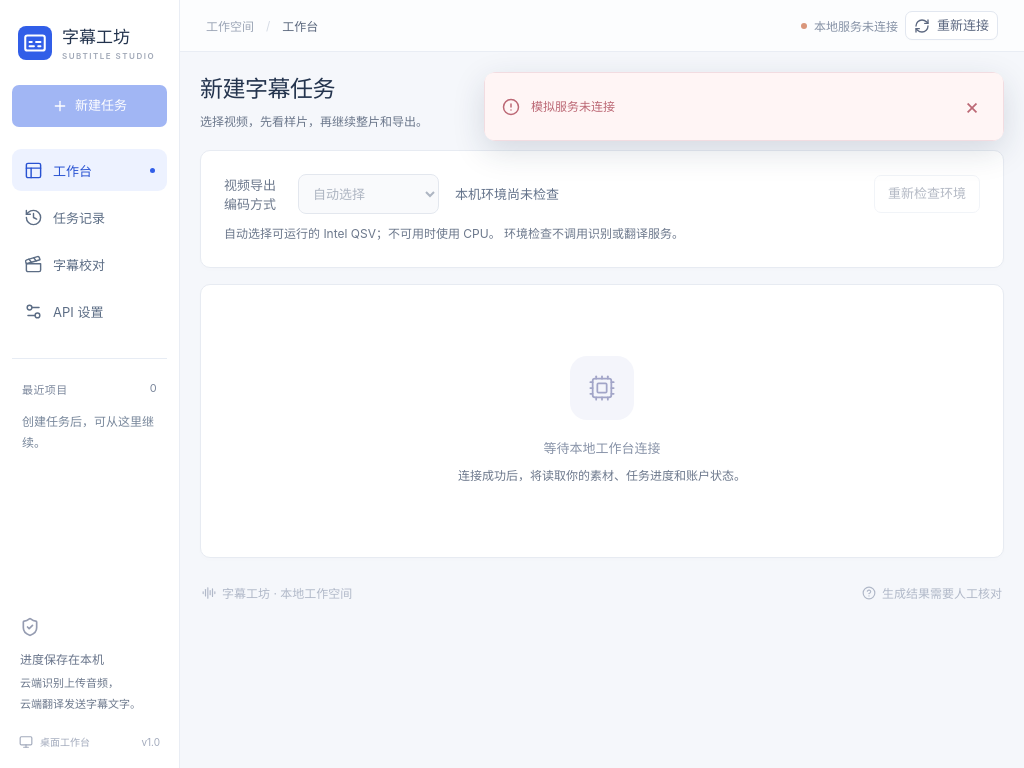
桌面工作台的真实操作边界 › allows dismissing an offline error while keeping an explicit reconnect action
Expected: the message "模拟服务未连接 ×" is shown, [484, 72, 1004, 141]
Click the button named "关闭错误提示" at (972, 107), box [958, 87, 986, 126]
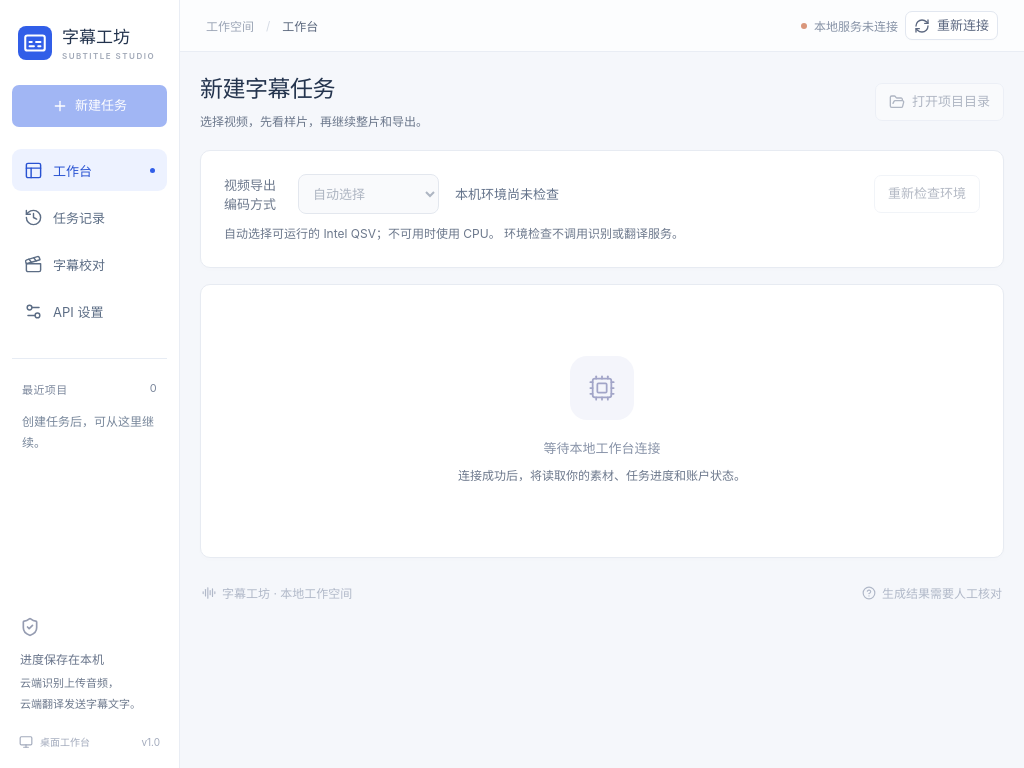
Expected: the button "重新连接" is enabled, [905, 11, 998, 40]
Expected: the message "模拟服务未连接 ×" is gone
